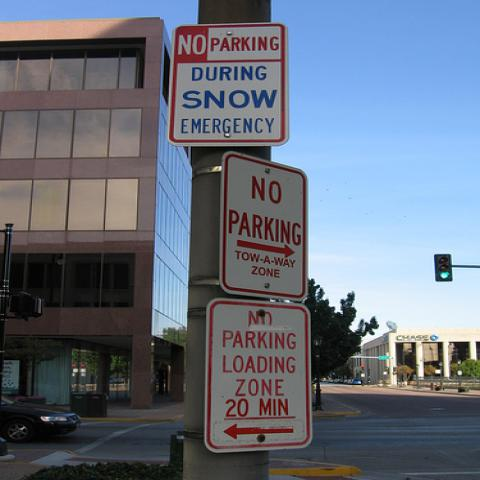car: (0, 392, 84, 447), (351, 378, 362, 385), (327, 378, 334, 382)
